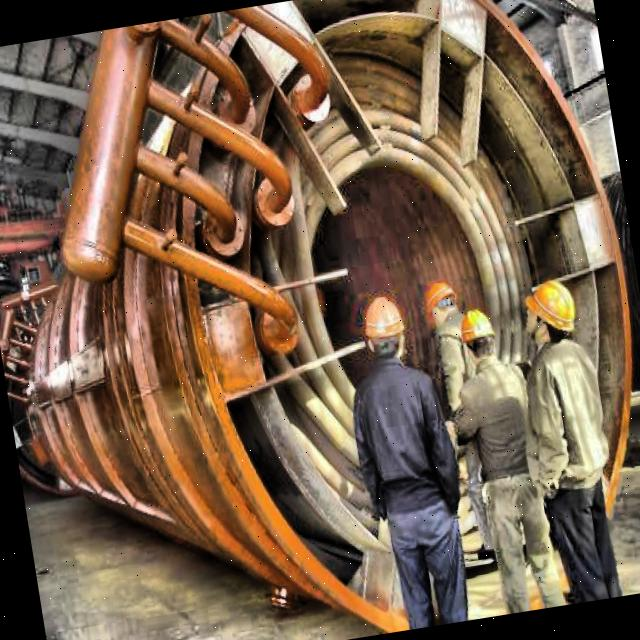helmet: (356, 289, 416, 374), (520, 276, 580, 353), (456, 306, 500, 369), (421, 276, 464, 332)
